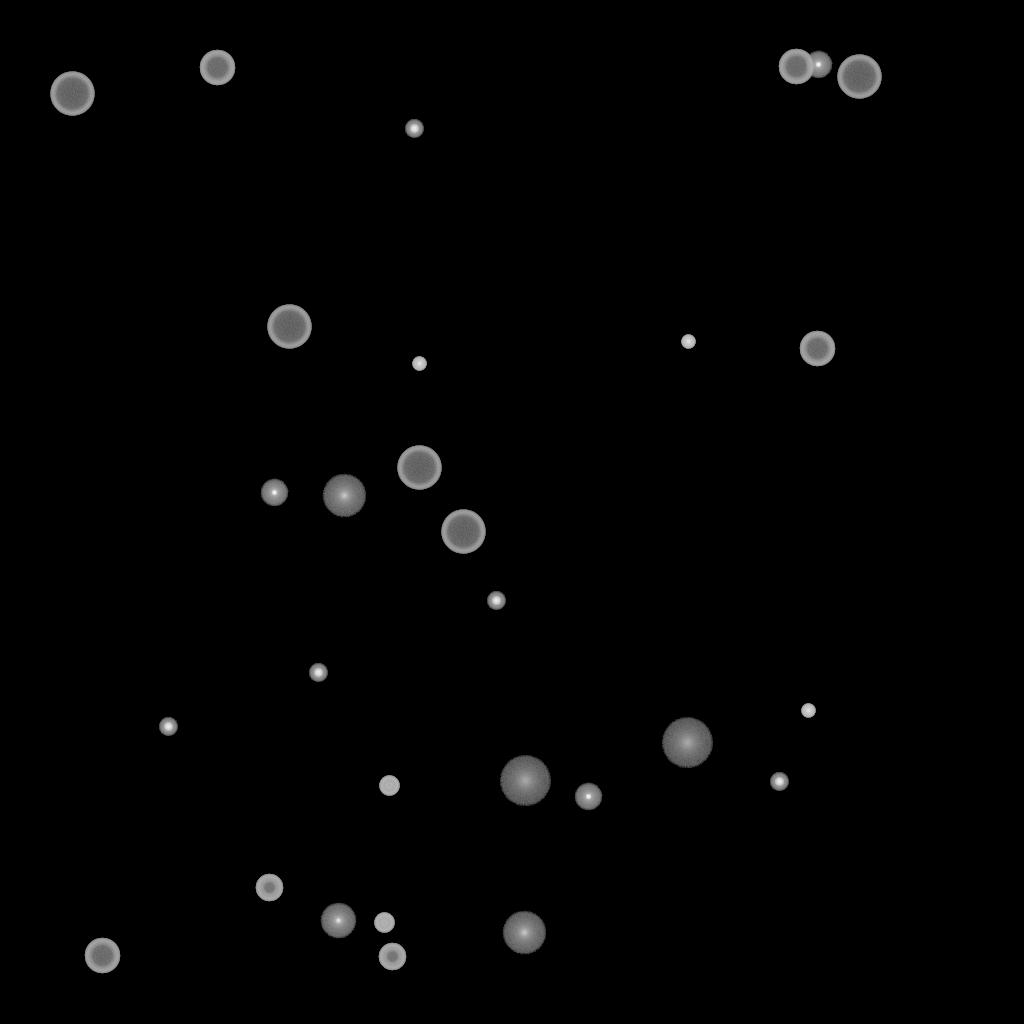depth:-10: (804, 51, 832, 79), (574, 783, 602, 811), (260, 479, 288, 507)
depth:-20: (487, 592, 505, 610), (770, 773, 788, 791), (159, 718, 177, 736), (309, 664, 327, 682), (405, 120, 423, 138)
depth:-30: (681, 335, 695, 349), (412, 357, 426, 371), (801, 704, 815, 718)
depth:-40: (374, 913, 394, 933), (379, 776, 399, 796)
depth:-50: (378, 943, 406, 971), (255, 874, 283, 902)
depth:-60: (84, 938, 120, 974), (199, 50, 235, 86), (799, 331, 835, 367), (778, 49, 814, 85)
depth:-70: (441, 510, 485, 554), (50, 72, 94, 116), (267, 305, 311, 349), (837, 55, 881, 99), (397, 446, 441, 490)
depth:0: (320, 903, 356, 939)
depth:10: (322, 474, 366, 518), (502, 911, 546, 955)
depth:20: (661, 718, 713, 768), (499, 756, 551, 806)
